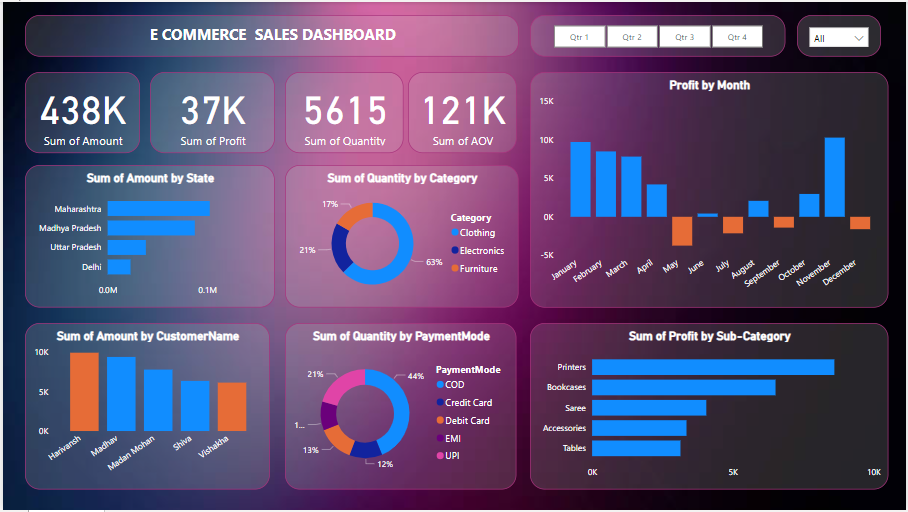

The dashboard page shown, as its layout file describes it:
{"tool":"powerbi","page":{"name":"Page 1","canvas":[1280,720],"ordinal":0},"visuals":[{"type":"textbox","box":[31.1,18.4,700.2,59.4],"z":0},{"type":"columnChart","title":"Profit by Month","fields":{"Y":["Details.Profit"],"Category":["Orders.Date.Variation.Date Hierarchy.Month"]},"box":[746.9,99,507.8,333.8],"z":1000},{"type":"barChart","fields":{"Category":["Details.Sub-Category"],"Y":["Details.Profit"]},"box":[746.9,455.5,507.8,236.2],"z":2000},{"type":"donutChart","fields":{"Y":["Details.Quantity"],"Series":["Details.PaymentMode"]},"box":[400.3,455.5,328.2,236.2],"z":3000},{"type":"donutChart","fields":{"Category":["Details.Category"],"Y":["Details.Quantity"]},"box":[400.3,230.6,331,202.3],"z":4000},{"type":"card","fields":{"Values":["Details.Amount"]},"box":[31.1,99,162.7,114.6],"z":5000},{"type":"card","fields":{"Values":["Details.Quantity"]},"box":[400.3,99,168.3,114.6],"z":6000},{"type":"card","fields":{"Values":["Details.Profit"]},"box":[207.9,99,176.8,114.6],"z":7000},{"type":"card","fields":{"Values":["Details.AOV"]},"box":[574.3,99,154.2,114.6],"z":8000},{"type":"barChart","fields":{"Category":["Orders.State"],"Y":["Details.Amount"]},"box":[31.1,230.6,353.6,202.3],"z":9000},{"type":"columnChart","fields":{"Y":["Details.Amount"],"Category":["Orders.CustomerName"]},"box":[31.1,455.5,346.6,236.2],"z":10000},{"type":"slicer","fields":{"Values":["Orders.Date.Variation.Date Hierarchy.Quarter"]},"box":[746.9,18.4,362.1,59.4],"z":11000},{"type":"slicer","fields":{"Values":["Orders.City"]},"box":[1126,18.4,118.8,59.4],"z":12000}]}

Visuals, with their boxes in screenshot pixels (x1, y1, x2, y2), scaled from the page's 1280x720 canvas onto the 908x512 screenshot:
textbox: bbox=[22, 13, 519, 55]
"Profit by Month" columnChart: bbox=[530, 70, 890, 308]
barChart - Details.Sub-Category x Details.Profit: bbox=[530, 324, 890, 492]
donutChart - Details.Quantity x Details.PaymentMode: bbox=[284, 324, 517, 492]
donutChart - Details.Category x Details.Quantity: bbox=[284, 164, 519, 308]
card - Details.Amount: bbox=[22, 70, 137, 152]
card - Details.Quantity: bbox=[284, 70, 403, 152]
card - Details.Profit: bbox=[147, 70, 273, 152]
card - Details.AOV: bbox=[407, 70, 517, 152]
barChart - Orders.State x Details.Amount: bbox=[22, 164, 273, 308]
columnChart - Details.Amount x Orders.CustomerName: bbox=[22, 324, 268, 492]
slicer - Orders.Date.Variation.Date Hierarchy.Quarter: bbox=[530, 13, 787, 55]
slicer - Orders.City: bbox=[799, 13, 883, 55]
